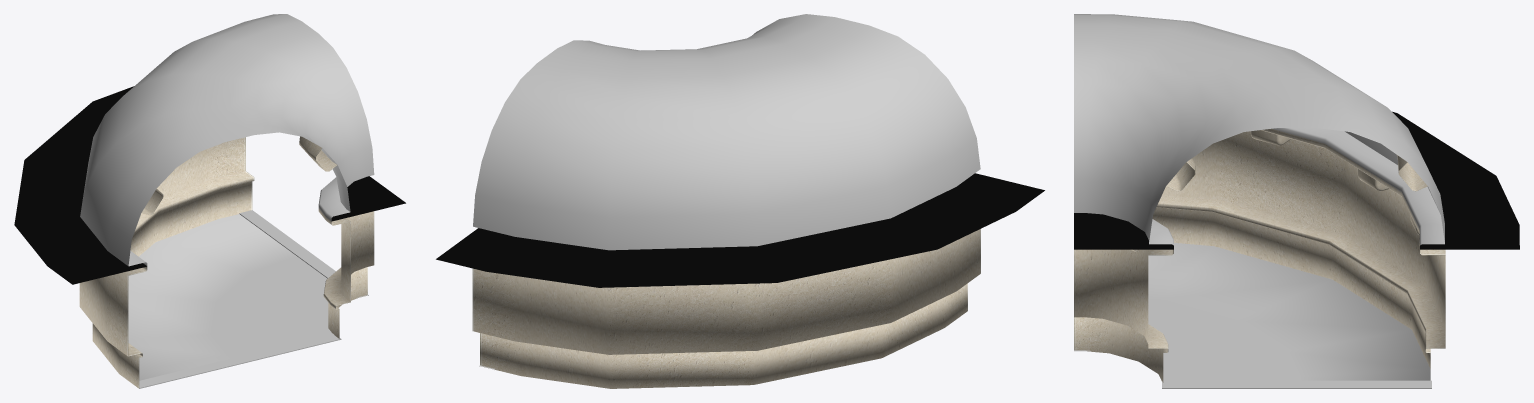
The model's file is dungeon_Modelling Tile_03.fbx.
3 views of the same model, side by side, from view 1: azimuth 30°, elevation 25°; view 2: azimuth 150°, elevation 25°; view 3: azimuth 270°, elevation 25° (orthographic). The views are drawn at different scales.
Parts seen in each view (by area): view 1: dungeon_Tile_03_Left_Wall, dungeon_Tile_03_Left_Roof, dungeon_Tile_03_Right_Roof, dungeon_Tile_03_Right_Wall; view 2: dungeon_Tile_03_Left_Roof, dungeon_Tile_03_Left_Wall, dungeon_Tile_03_Right_Roof; view 3: dungeon_Tile_03_Left_Wall, dungeon_Tile_03_Right_Roof, dungeon_Tile_03_Right_Wall, dungeon_Tile_03_Left_Roof.
Boxes of the visible parts, <box> form: dungeon_Tile_03_Left_Wall: <box>14,86,309,388</box>; dungeon_Tile_03_Left_Roof: <box>80,14,309,266</box>; dungeon_Tile_03_Right_Roof: <box>210,27,374,221</box>; dungeon_Tile_03_Right_Wall: <box>210,176,405,364</box>; dungeon_Tile_03_Left_Roof: <box>473,21,980,250</box>; dungeon_Tile_03_Left_Wall: <box>436,173,1044,388</box>; dungeon_Tile_03_Right_Roof: <box>547,14,851,69</box>; dungeon_Tile_03_Left_Wall: <box>1148,111,1519,388</box>; dungeon_Tile_03_Right_Roof: <box>1074,34,1296,245</box>; dungeon_Tile_03_Right_Wall: <box>1074,213,1296,388</box>; dungeon_Tile_03_Left_Roof: <box>1074,14,1444,245</box>.
Bounding box in the file's own units: 90 × 58.13 × 90.
